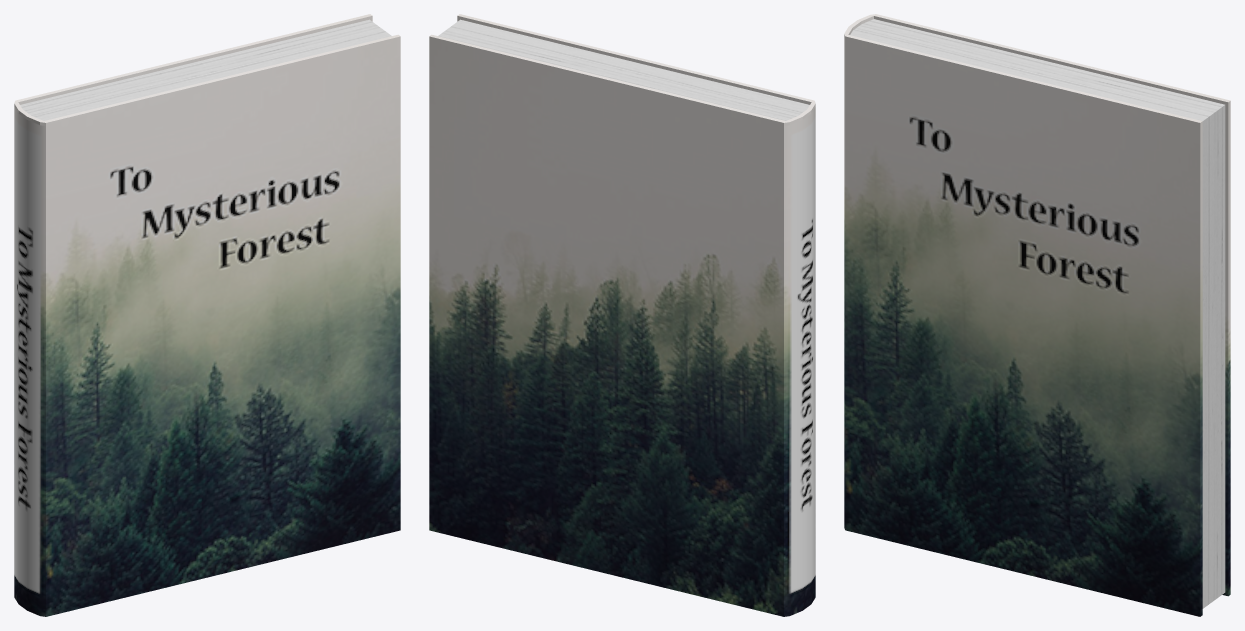
File: book3.FBX
The picture shows the model from 3 angles, left to right: view 1: azimuth 30°, elevation 25°; view 2: azimuth 150°, elevation 25°; view 3: azimuth 330°, elevation 25°; orthographic projection.
Parts seen in each view (by area): view 1: book3; view 2: book3; view 3: book3.
Boxes of the visible parts, box(x1,y1,x2,y2) form: book3: box(14, 14, 400, 616); book3: box(429, 14, 815, 616); book3: box(844, 14, 1230, 616).
Bounding box in the file's own units: 8.37 × 1.23 × 10.9.
1 material, 1 textured.
